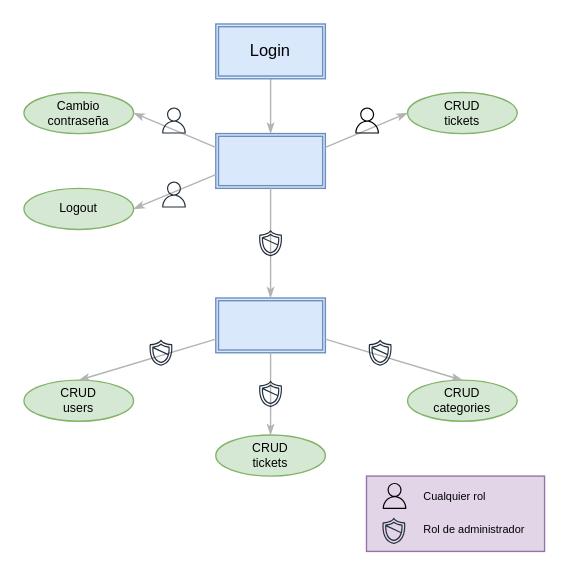
Image size: 569x575. Some labels were removed from this diagram. Each missing label, with the box of its shape:
Admin panel: (214, 297, 325, 353)
Dashboard: (214, 132, 325, 188)
